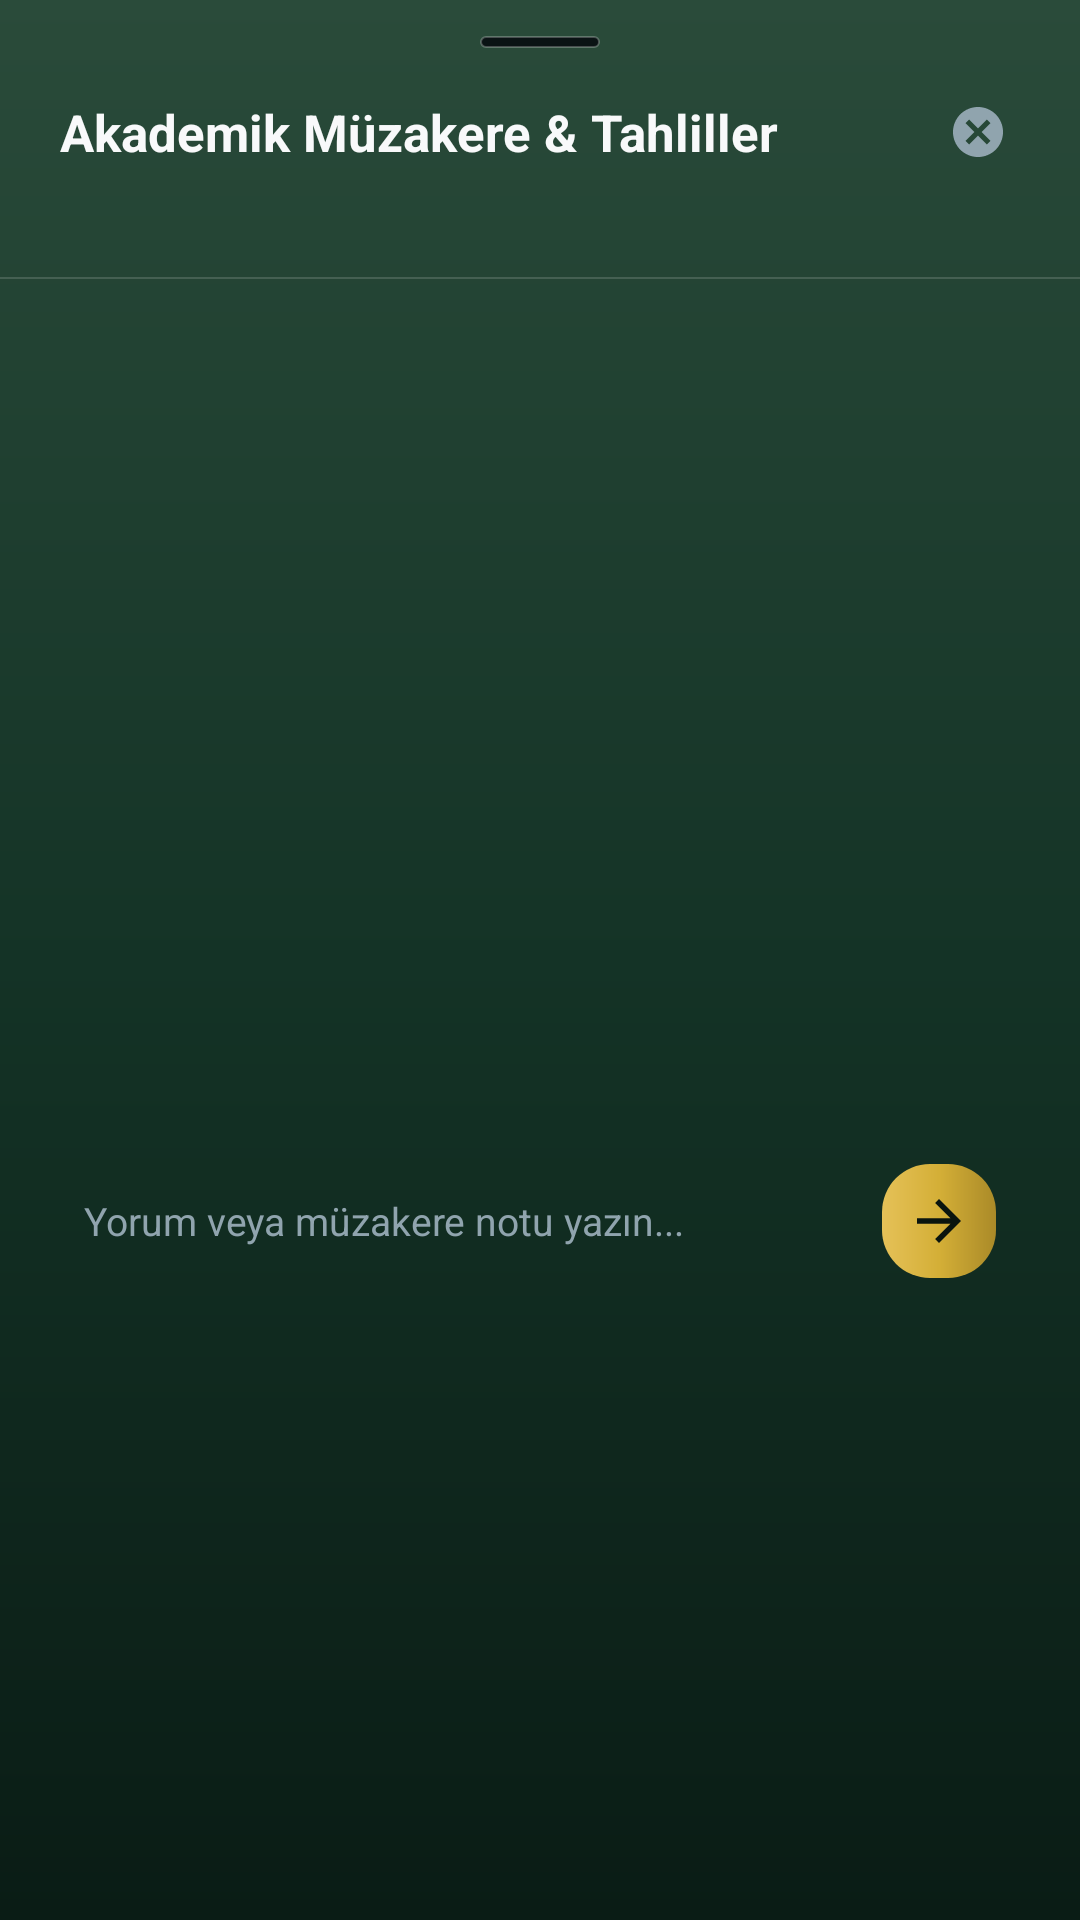

Point at icon controls on the screen. Image size 1080*1920, points as (x=x, y=y).
arrow forward: (x=939, y=1221)
close circle: (x=978, y=132)
